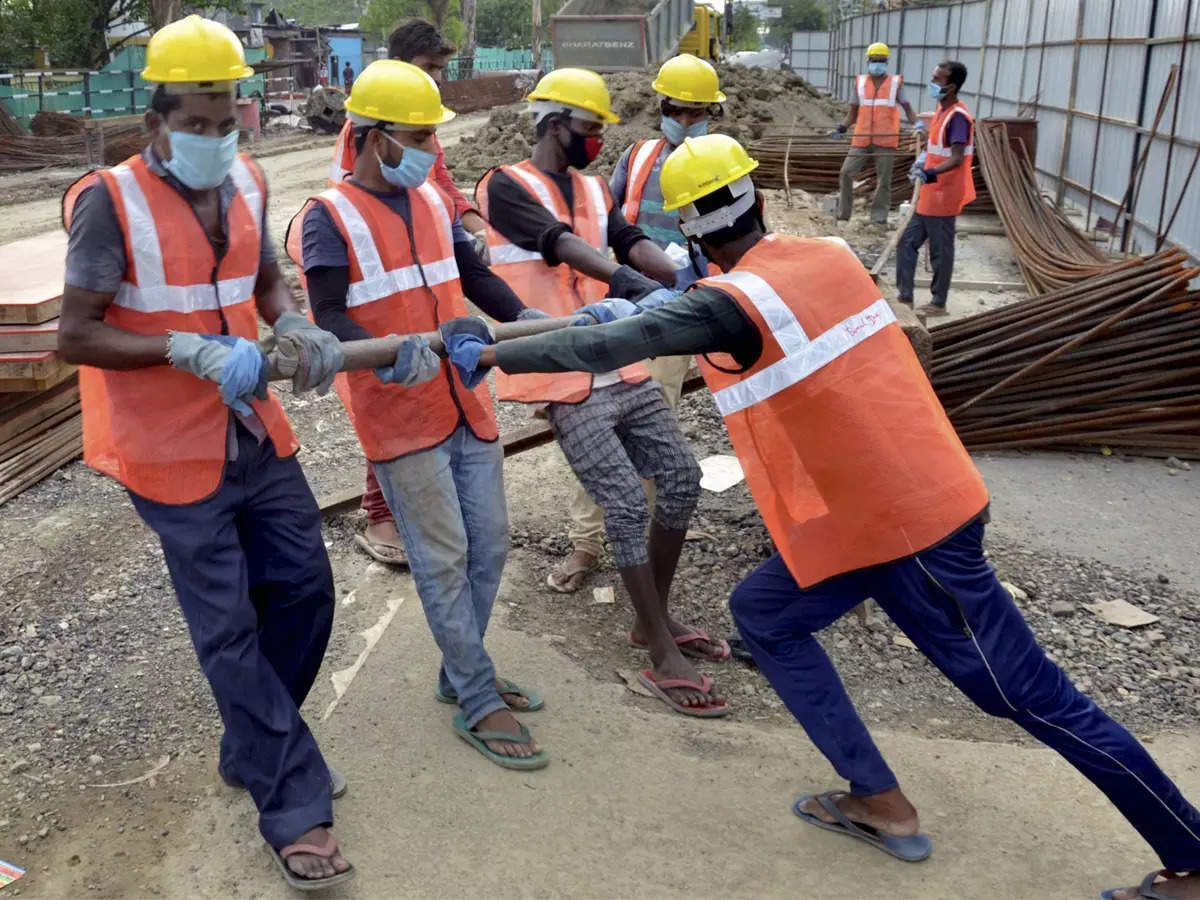hat: (662, 251, 996, 588), (54, 149, 317, 505), (288, 181, 495, 461), (469, 152, 653, 394), (911, 102, 988, 231), (831, 70, 913, 151)
jacket: (132, 10, 261, 91), (648, 130, 765, 211), (335, 56, 459, 131), (528, 54, 627, 128), (649, 52, 735, 111), (862, 36, 890, 63)
